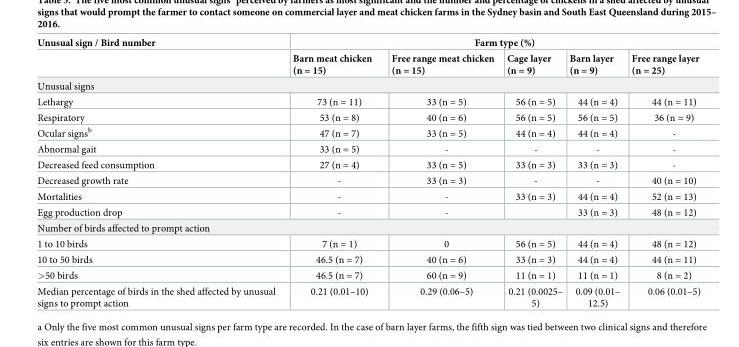table: (36, 37, 699, 308)
table column: (36, 37, 283, 308), (380, 37, 499, 308), (283, 37, 380, 308), (625, 37, 699, 308), (499, 37, 565, 308), (565, 37, 625, 308)
table column header: (36, 37, 699, 77)
table projected row header: (36, 77, 699, 93), (36, 220, 699, 235)
table row: (36, 50, 699, 77), (36, 283, 699, 308), (36, 124, 699, 141), (36, 77, 699, 93), (36, 93, 699, 109), (36, 156, 699, 172), (36, 172, 699, 188), (36, 188, 699, 204), (36, 204, 699, 220), (36, 235, 699, 251), (36, 251, 699, 267), (36, 267, 699, 283), (36, 109, 699, 124), (36, 141, 699, 156), (36, 220, 699, 235), (36, 37, 699, 50)
table spanning cell: (36, 37, 283, 77), (283, 37, 699, 50)
